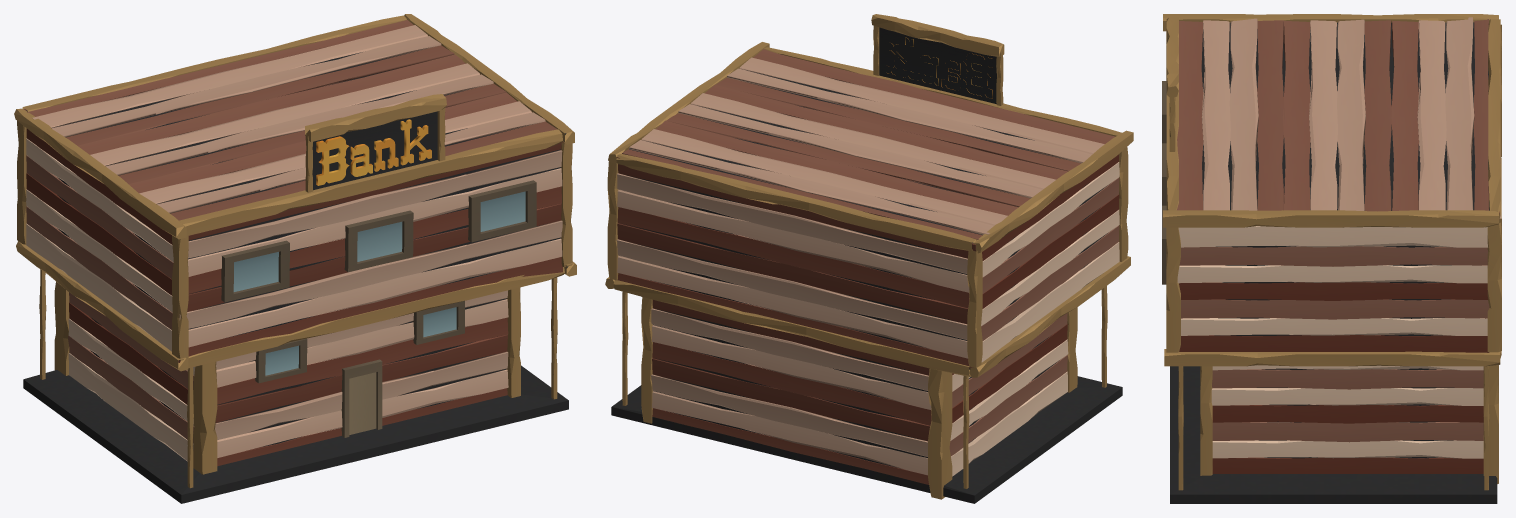
Rendered from M_bank.fbx.
3 views of the same model, side by side, from view 1: azimuth 30°, elevation 25°; view 2: azimuth 150°, elevation 25°; view 3: azimuth 270°, elevation 25° (orthographic). The views are drawn at different scales.
Parts seen in each view (by area): view 1: bank; view 2: bank; view 3: bank.
Part boxes in pixels (x1,y1,x2,y2): bank: (14, 14, 576, 503); bank: (605, 14, 1133, 503); bank: (1162, 14, 1501, 503).
Bounding box in the file's own units: 15.92 × 13.11 × 11.28.
